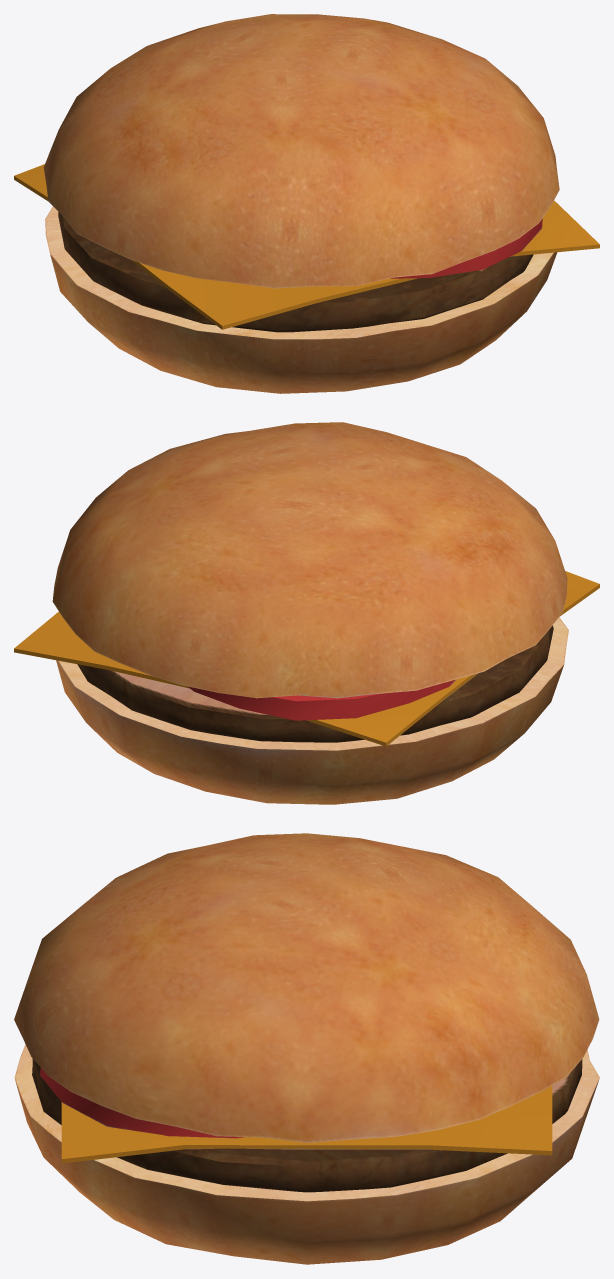
File: Hamburger.fbx
The picture shows the model from 3 angles, top to bottom: view 1: azimuth 30°, elevation 25°; view 2: azimuth 150°, elevation 25°; view 3: azimuth 270°, elevation 25°; orthographic projection. The views are drawn at different scales.
Parts seen in each view (by area): view 1: Hamburger; view 2: Hamburger; view 3: Hamburger.
Boxes of the visible parts, x1=… form: Hamburger: x1=14, y1=14, x2=599, y2=393; Hamburger: x1=14, y1=422, x2=599, y2=804; Hamburger: x1=14, y1=833, x2=599, y2=1264.
Size of the model in its own units: 13.76 by 7.74 by 13.77.
Materials: 1 (1 with a texture image).
